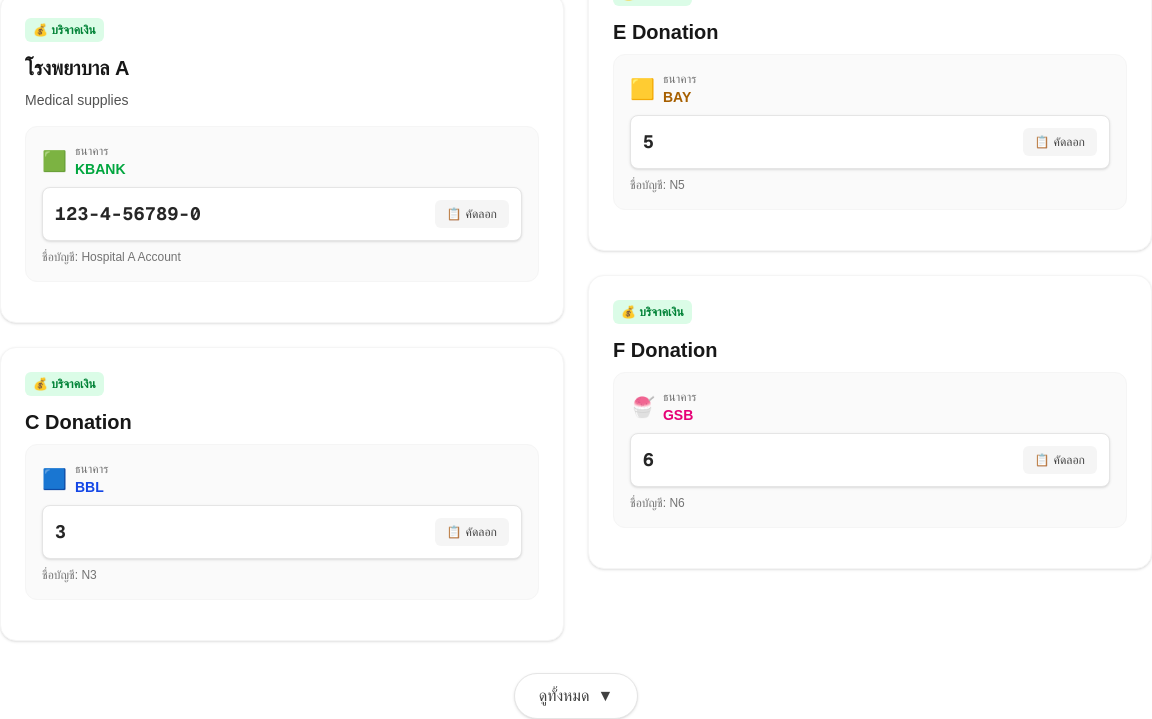
Test: DonationsSection › handles show more/less
The image size is (1152, 719).
(page scrolled)
Check: the heading "โรงพยาบาล A" is shown, box top-left (25, 57), bottom-right (130, 79)
Check: the text "Z Donation" is not shown
Click the button "ดูทั้งหมด ▼" at x=576, y=696, box top-left (514, 673), bottom-right (638, 718)
(page scrolled)
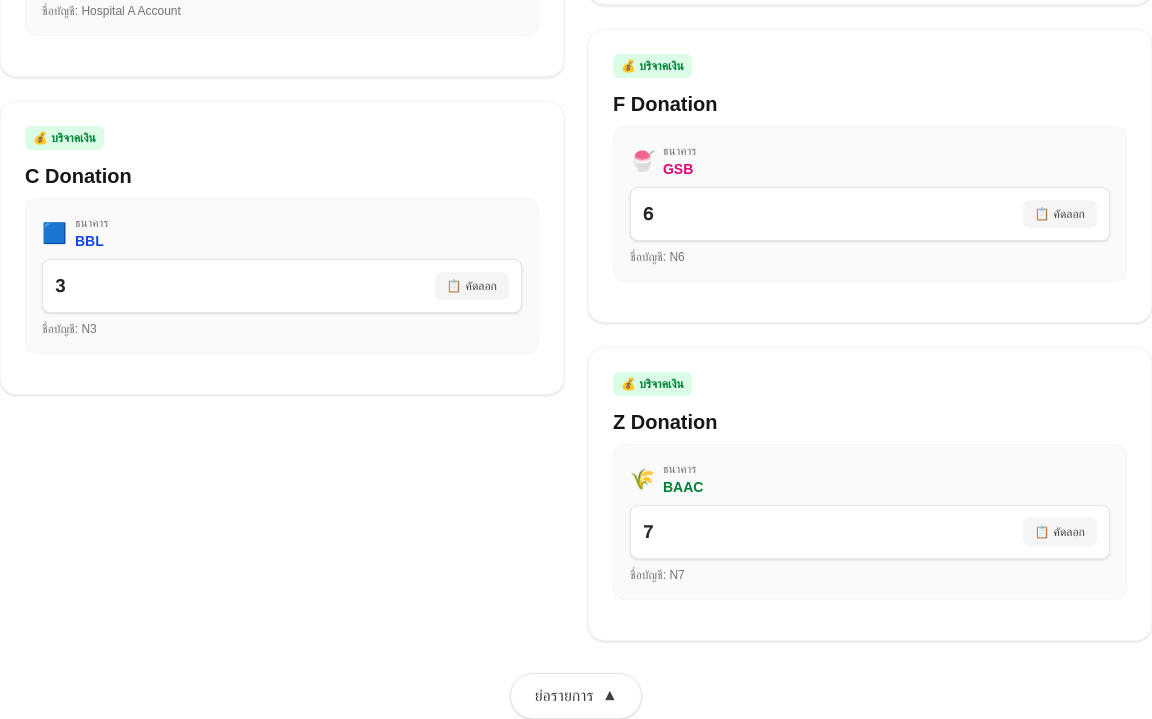
Check: the heading "Z Donation" is shown, box top-left (613, 411), bottom-right (717, 433)
Click the button "ย่อรายการ ▼" at x=576, y=696, box top-left (510, 673), bottom-right (642, 718)
(page scrolled)
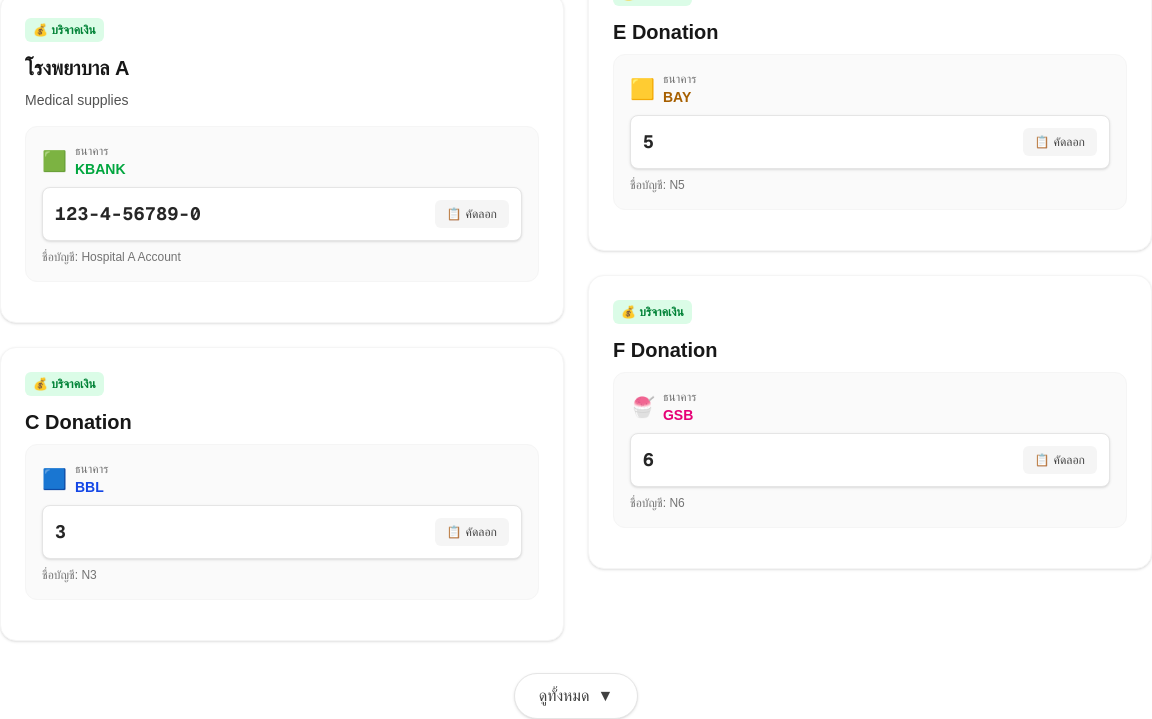
Check: the heading "Z Donation" is gone
